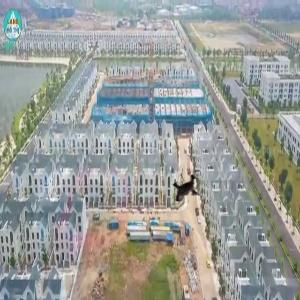drone: (164, 167, 215, 218)
